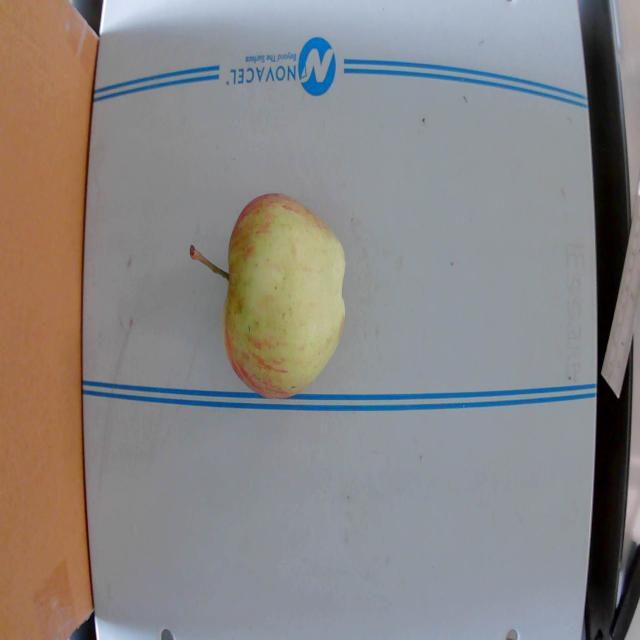apple: (186, 190, 346, 397)
